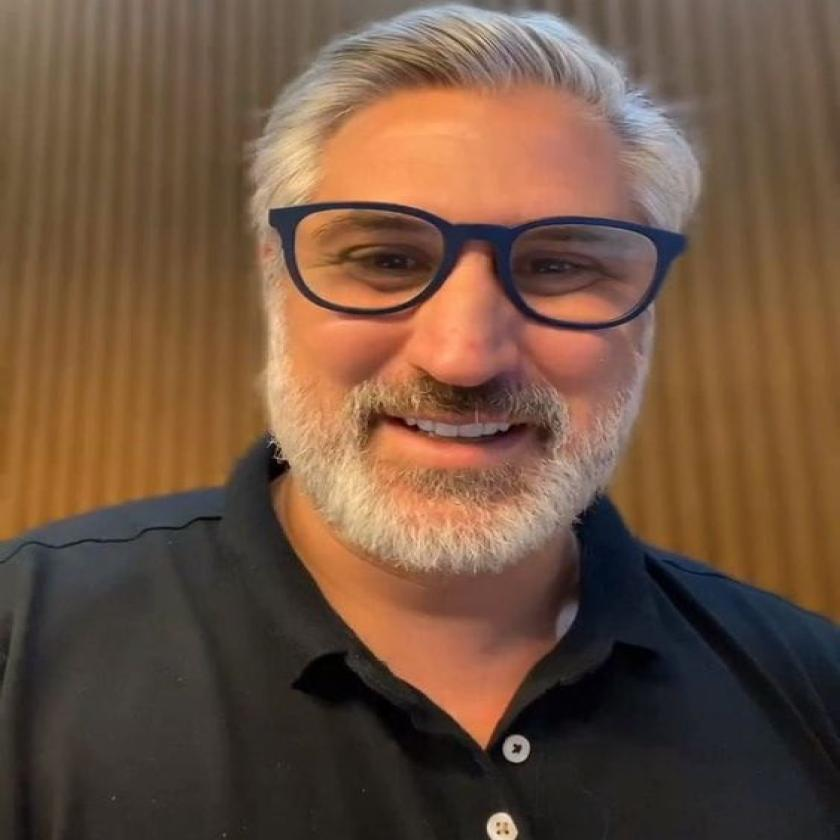Sin_casco: (231, 8, 718, 604)
